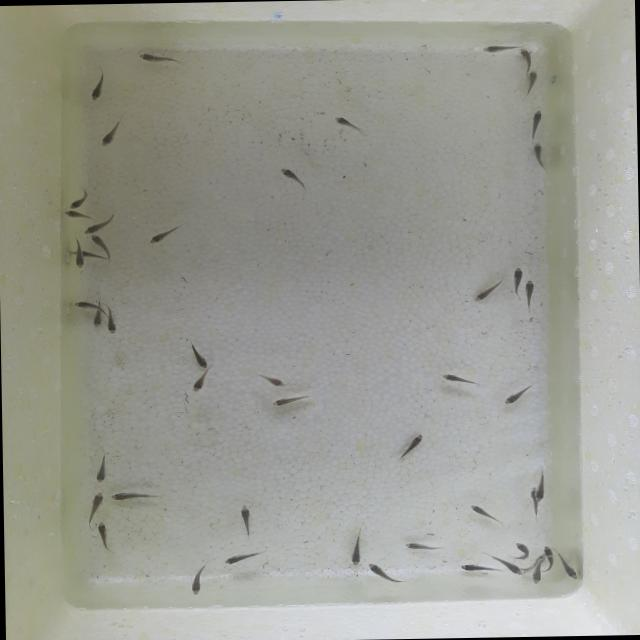fingerling: (186, 563, 211, 596), (134, 51, 180, 68), (330, 111, 364, 132), (464, 501, 493, 524), (348, 532, 366, 569), (368, 562, 400, 582), (109, 492, 158, 504), (471, 282, 502, 300), (223, 550, 260, 565), (99, 124, 122, 148), (275, 166, 304, 185), (404, 432, 426, 457), (240, 502, 256, 536), (88, 488, 106, 518), (104, 306, 122, 336), (268, 394, 306, 408), (146, 228, 177, 245), (508, 264, 524, 296), (186, 347, 210, 368), (503, 386, 528, 406), (190, 371, 210, 395), (400, 540, 438, 552), (88, 77, 106, 101), (95, 458, 110, 486), (64, 195, 92, 210), (456, 562, 490, 574), (82, 220, 111, 234), (479, 42, 512, 54), (96, 518, 108, 550), (520, 278, 537, 300), (561, 558, 577, 581), (526, 70, 540, 96), (440, 372, 470, 384), (532, 138, 544, 168), (73, 300, 102, 312), (529, 108, 544, 131), (264, 375, 288, 389), (534, 476, 546, 502), (63, 209, 90, 220), (513, 540, 531, 556), (519, 47, 532, 69), (89, 235, 108, 250), (531, 564, 545, 582), (505, 563, 524, 576), (76, 240, 84, 270), (543, 544, 552, 562), (93, 312, 102, 328)
